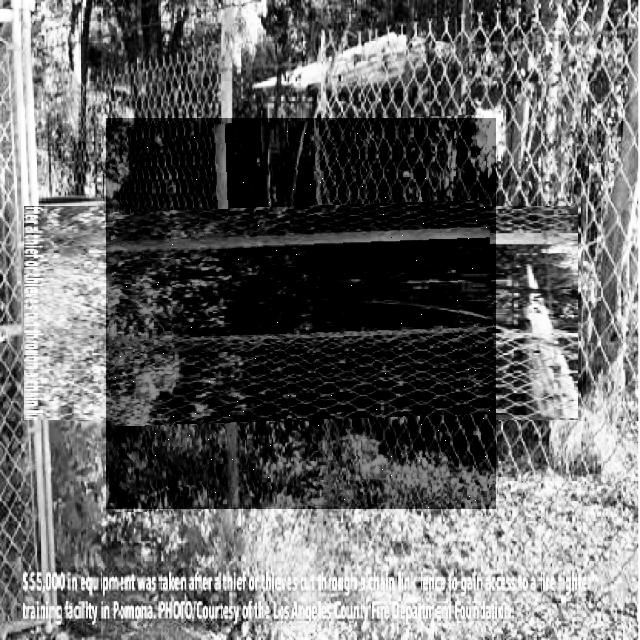anomaly-fence: (106, 118, 496, 509)
